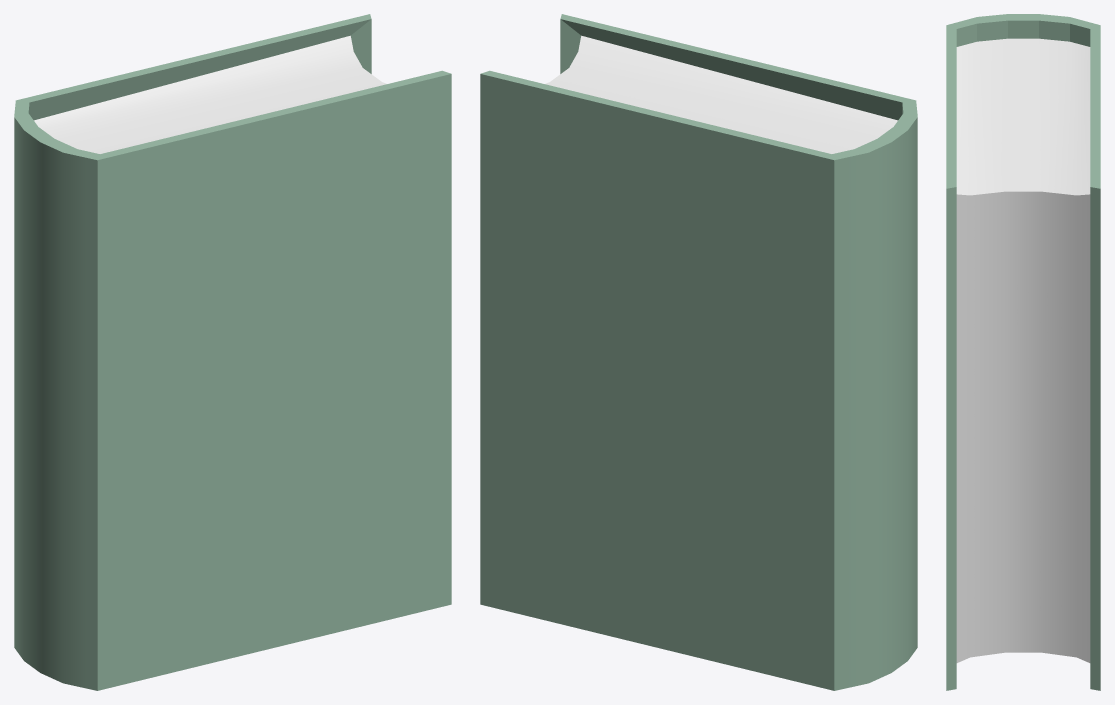
The model's file is Book 1.fbx.
The picture shows the model from 3 angles, left to right: view 1: azimuth 30°, elevation 25°; view 2: azimuth 150°, elevation 25°; view 3: azimuth 270°, elevation 25°; orthographic projection. The views are drawn at different scales.
Visible parts, largest first — view 1: Box062, Object014; view 2: Box062, Object014; view 3: Object014, Box062.
Boxes of the visible parts, x1,y1,x2,y2 form: Box062: (14,14,451,690); Object014: (34,35,386,153); Box062: (480,14,917,690); Object014: (545,35,897,153); Object014: (956,38,1090,662); Box062: (946,14,1100,690).
Size of the model in its own units: 35.25 by 47.2 by 13.17.
